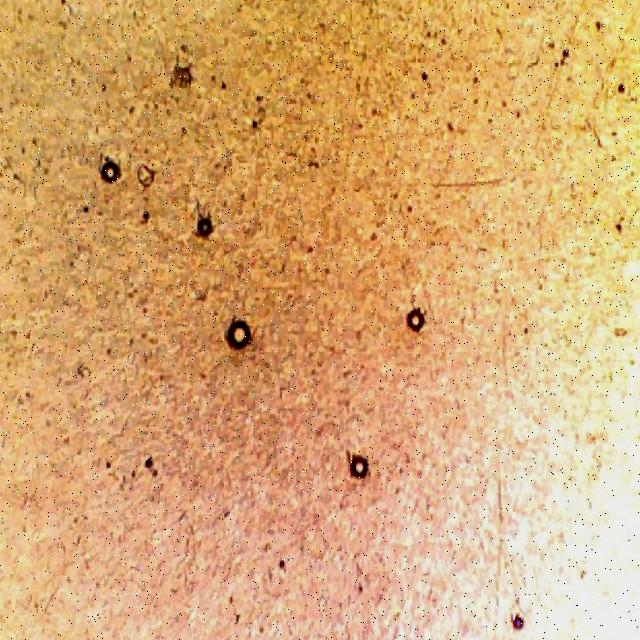microbeads: (224, 322, 252, 352), (348, 451, 368, 481), (406, 305, 426, 333), (98, 162, 120, 184)
